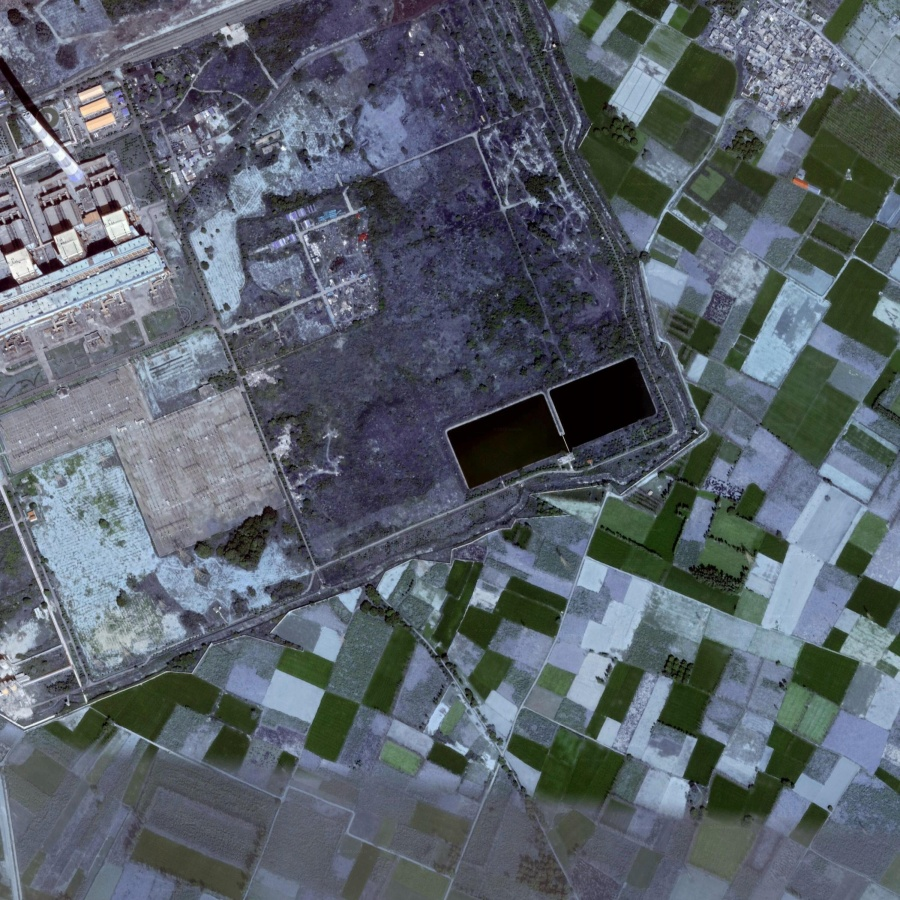PowerPlant: (426, 337, 667, 523)
